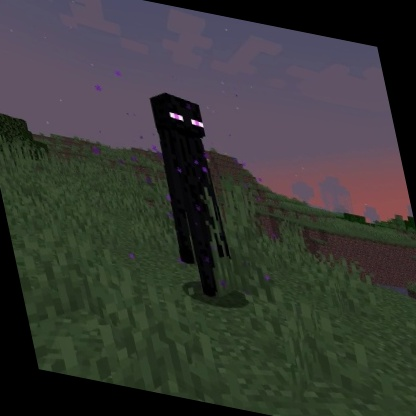enderman: (140, 85, 245, 306)
